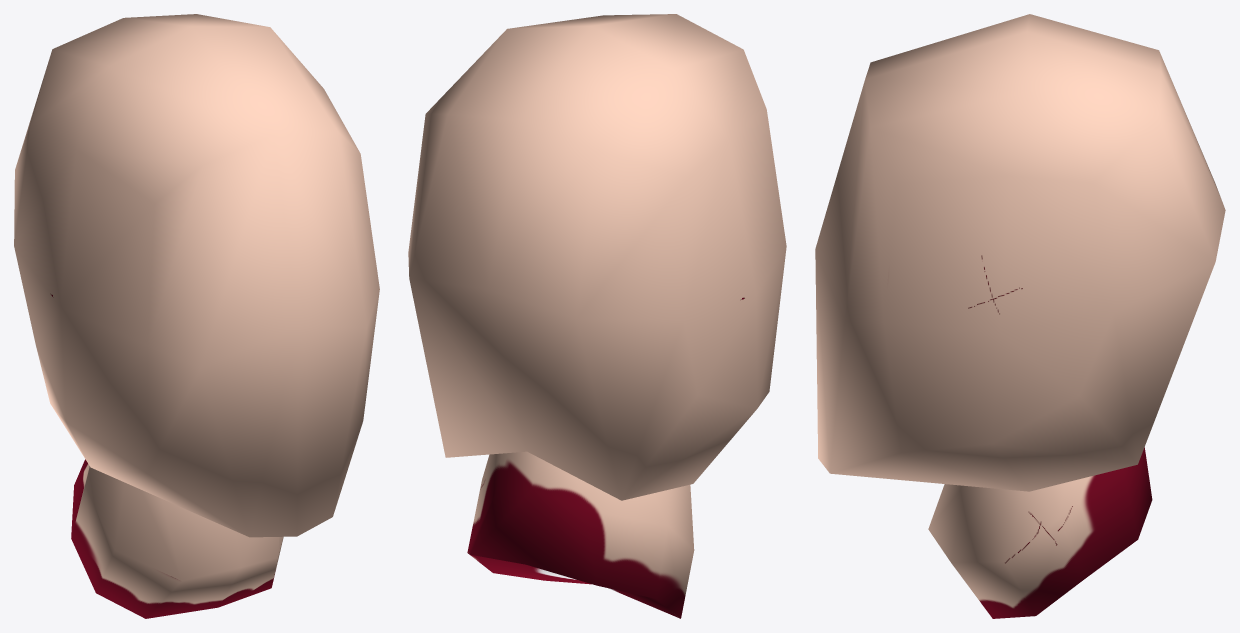
Rendered from severedhead.fbx.
3 renders of one model, left to right at view 1: azimuth 30°, elevation 25°; view 2: azimuth 150°, elevation 25°; view 3: azimuth 270°, elevation 25°, orthographic. The views are drawn at different scales.
Parts seen in each view (by area): view 1: severedhead; view 2: severedhead; view 3: severedhead.
Boxes of the visible parts, bbox=[...] form: severedhead: bbox=[14, 14, 379, 618]; severedhead: bbox=[408, 14, 786, 618]; severedhead: bbox=[815, 14, 1225, 618].
Size of the model in its own units: 70.38 by 131 by 87.35.
1 material, 1 textured.
